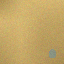person: (48, 49, 56, 58)
